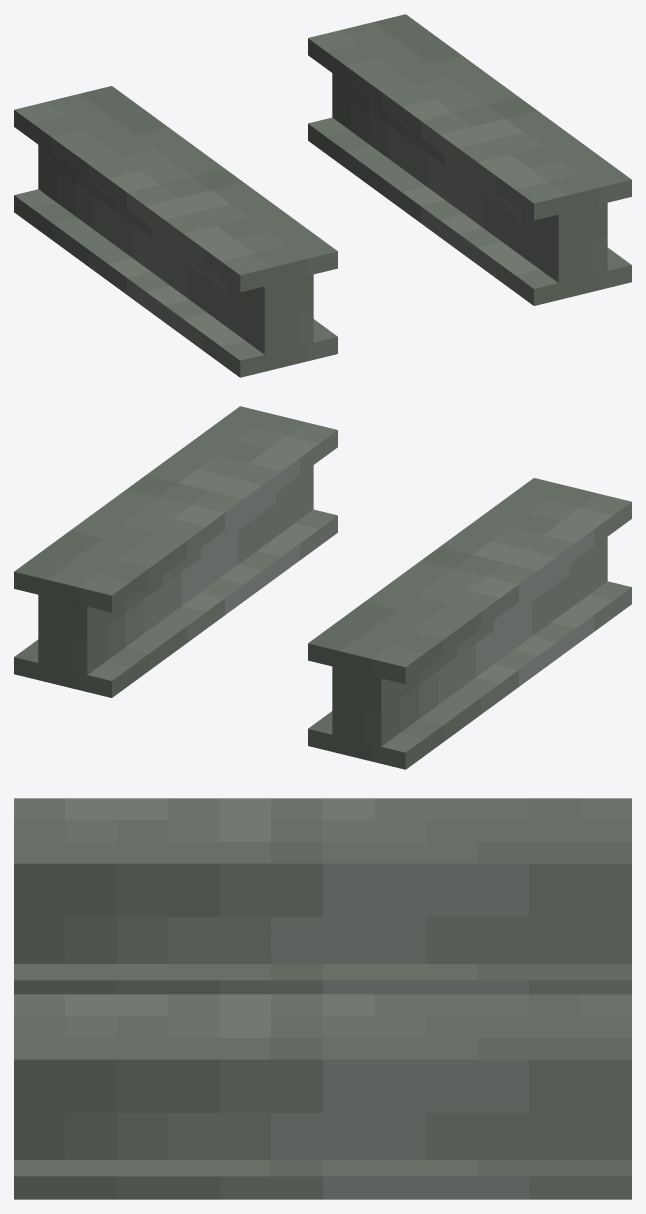
The model's file is power_line_bracket_on_lattice.obj.
3 renders of one model, top to bottom at view 1: azimuth 30°, elevation 25°; view 2: azimuth 150°, elevation 25°; view 3: azimuth 270°, elevation 25°, orthographic. The views are drawn at different scales.
Parts seen in each view (by area): view 1: b1, b4, b3, b6, b5, b2; view 2: b1, b4, b3, b6, b5, b2; view 3: b1, b4, b3, b6, b2, b5.
Boxes of the visible parts, box(x1,y1,x2,y2) form: b1: box(308, 14, 631, 220); b4: box(14, 86, 337, 292); b3: box(332, 73, 607, 282); b6: box(38, 145, 313, 354); b5: box(14, 189, 337, 377); b2: box(308, 117, 631, 305); b1: box(14, 406, 337, 612); b4: box(308, 478, 631, 684); b3: box(38, 465, 313, 674); b6: box(332, 537, 607, 746); b5: box(308, 581, 631, 769); b2: box(14, 509, 337, 697); b1: box(14, 994, 631, 1082); b4: box(14, 798, 631, 886); b3: box(14, 1083, 631, 1159); b6: box(14, 887, 631, 963); b2: box(14, 1160, 631, 1199); b5: box(14, 964, 631, 994).
Bounding box in the file's own units: 0.75 × 0.1875 × 0.75.
